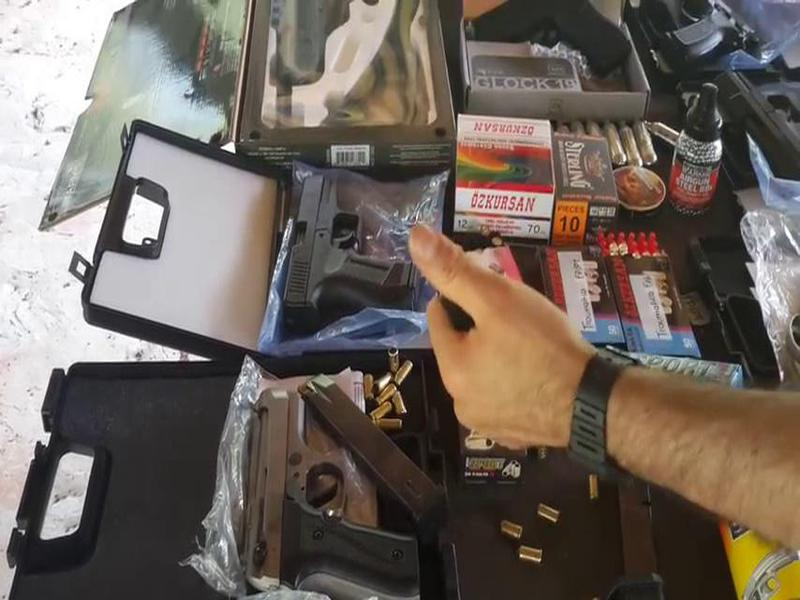Pistola: (226, 378, 445, 600), (274, 164, 426, 322)
